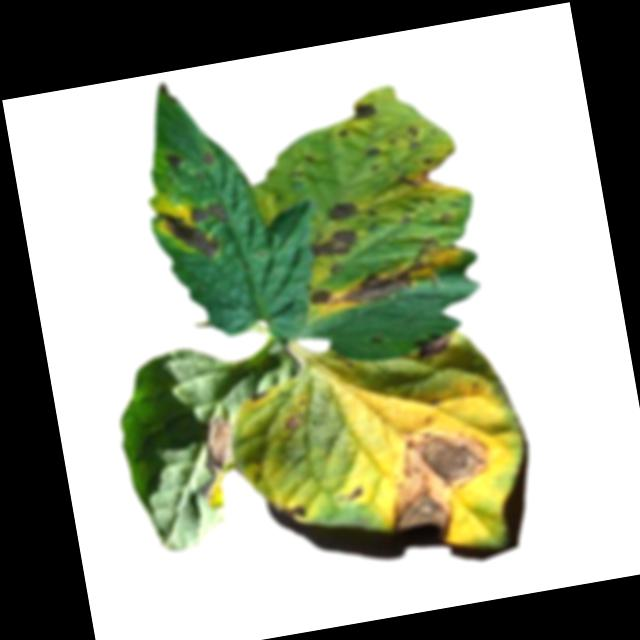Early_blight: (374, 416, 508, 551), (333, 249, 437, 309), (193, 414, 247, 511), (160, 203, 219, 263), (306, 226, 362, 263), (413, 330, 457, 361), (266, 491, 308, 523), (189, 198, 229, 228), (326, 195, 365, 224), (395, 166, 433, 191), (348, 97, 380, 121), (307, 284, 334, 307), (345, 481, 369, 501), (284, 410, 304, 431), (164, 151, 186, 168), (200, 148, 216, 167), (405, 122, 423, 138)
